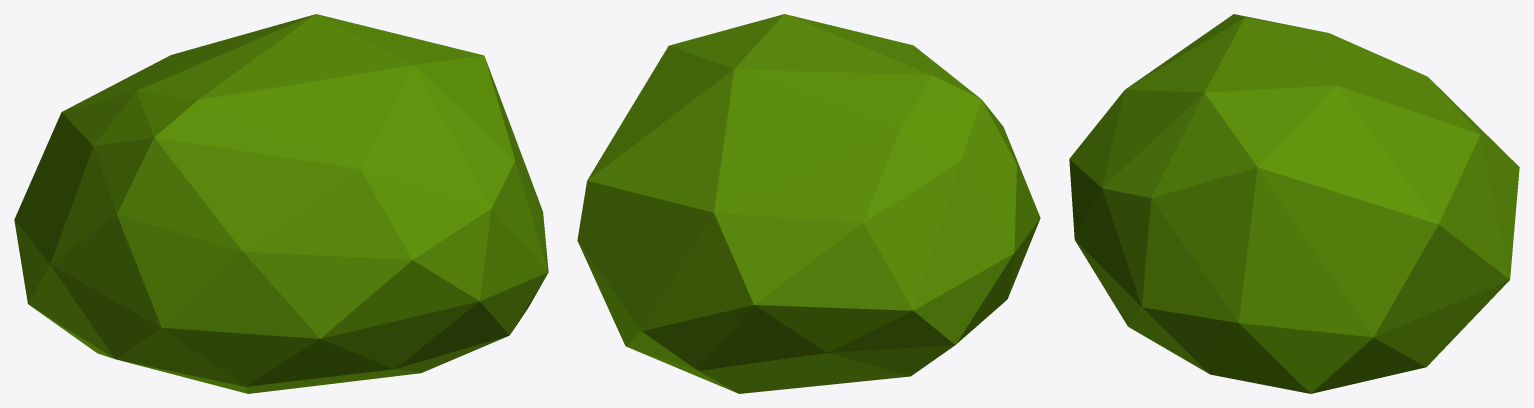
The model's file is bush4.glb.
3 renders of one model, left to right at view 1: azimuth 30°, elevation 25°; view 2: azimuth 150°, elevation 25°; view 3: azimuth 270°, elevation 25°, orthographic. The views are drawn at different scales.
Parts seen in each view (by area): view 1: bush.003; view 2: bush.003; view 3: bush.003.
Boxes of the visible parts, x1,y1,x2,y2 form: bush.003: [14, 14, 548, 393]; bush.003: [577, 14, 1040, 393]; bush.003: [1069, 14, 1519, 393].
Bounding box in the file's own units: 1.9 × 1.27 × 1.89.
